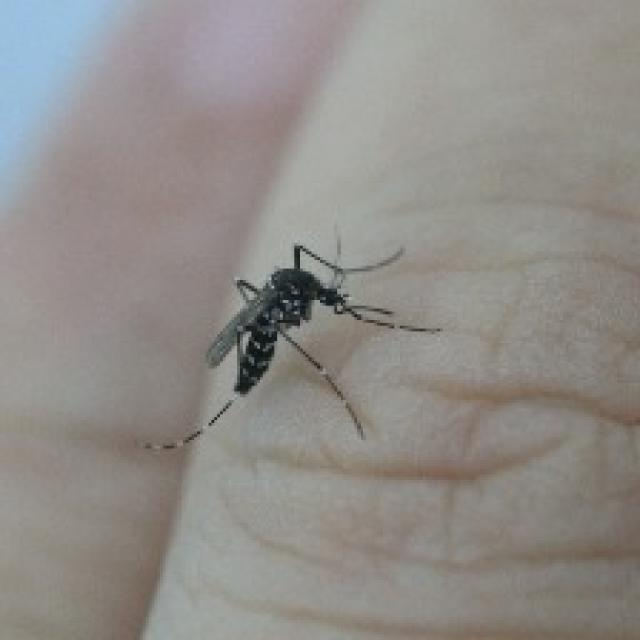aedes: (137, 223, 443, 454)
